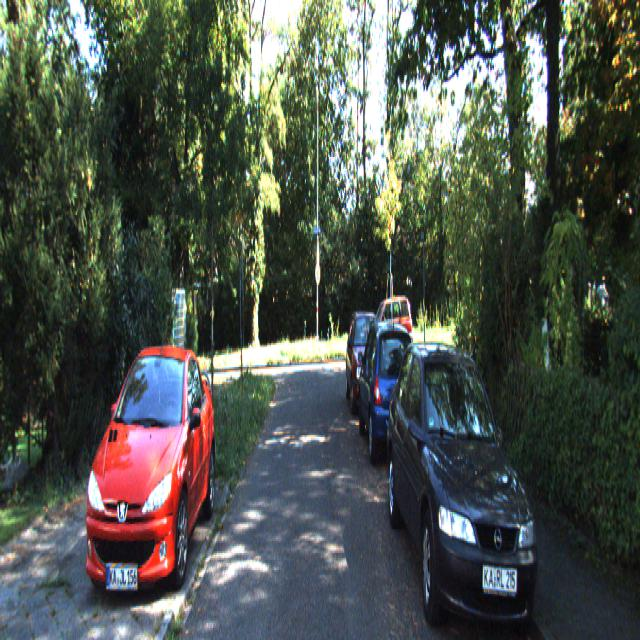Car: (386, 331, 555, 638), (75, 336, 219, 626), (357, 318, 422, 467), (345, 307, 389, 415), (361, 293, 415, 359)
